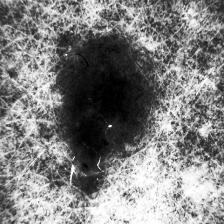Benign Marking or Mole: (64, 43, 147, 182)
